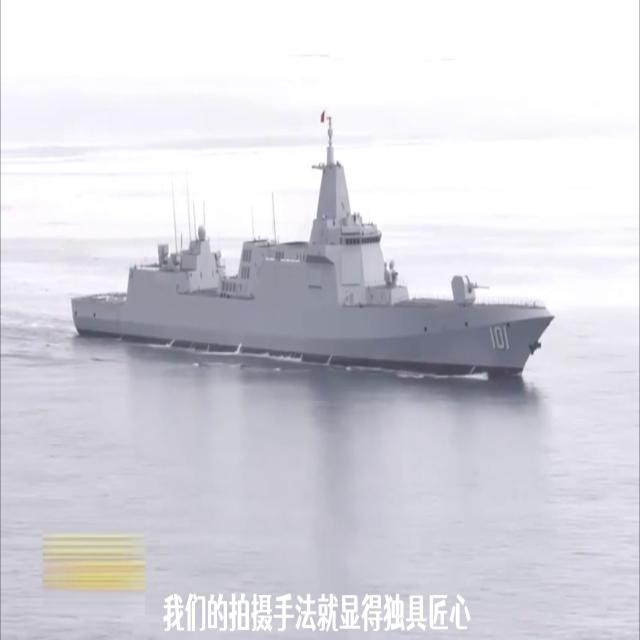navalvessels: (71, 113, 553, 379)
